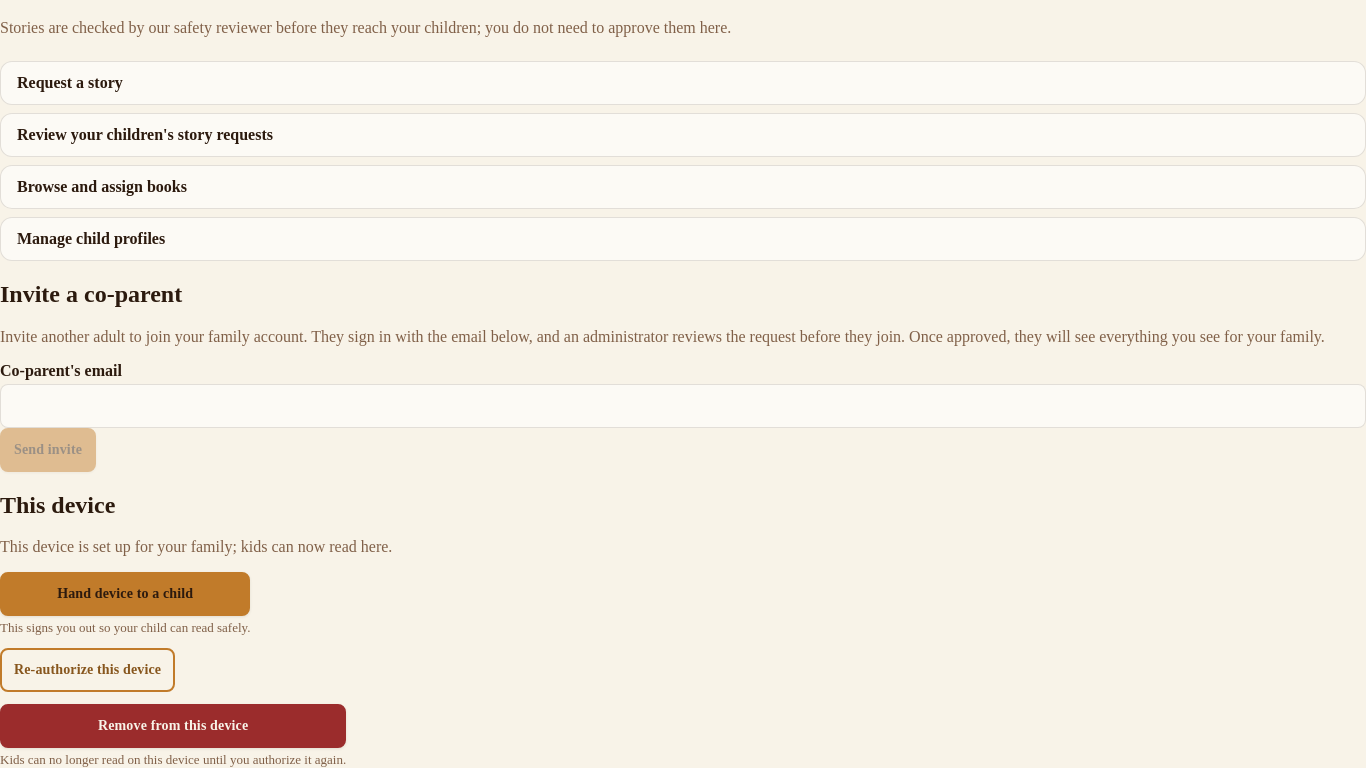
Test: ConsolePage device authorization (ADR-014 Phase 3) › removes the grant from this device after a successful revoke
The width and height of the screenshot is (1366, 768).
(page scrolled)
Click the button "Remove from this device": x=173, y=726 [0,704,346,748]
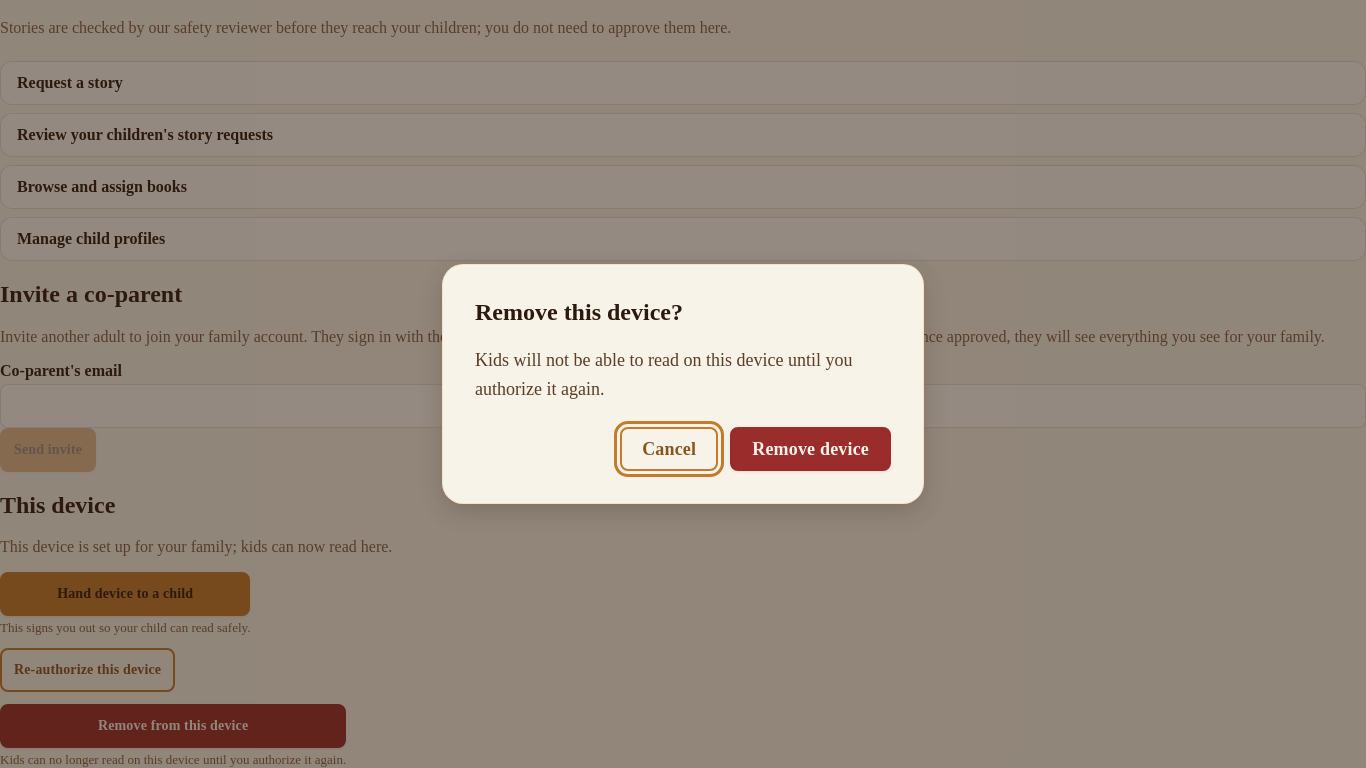
Click the button "Remove device": x=811, y=449 [730,427,891,471]
(page scrolled)
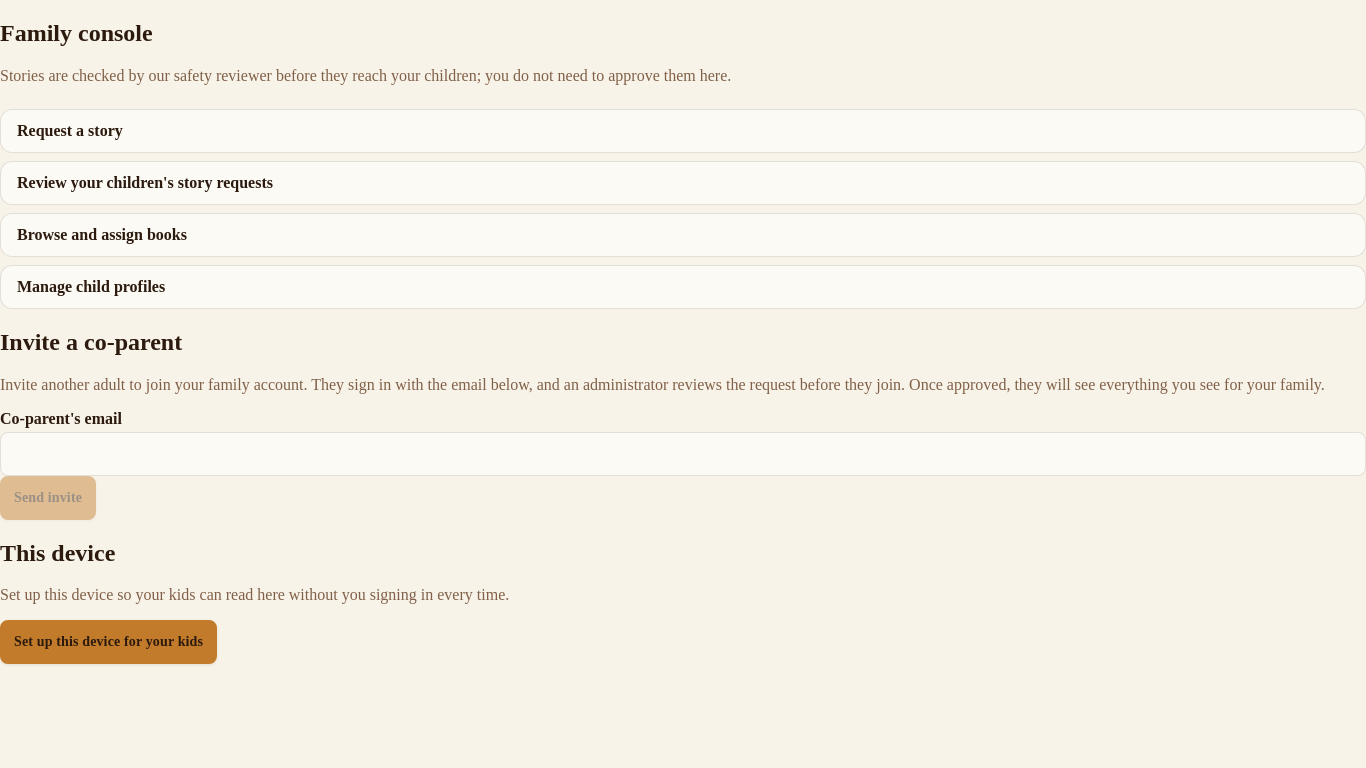
Expected: the button "Set up this device for your kids" is shown, [0,620,217,664]
